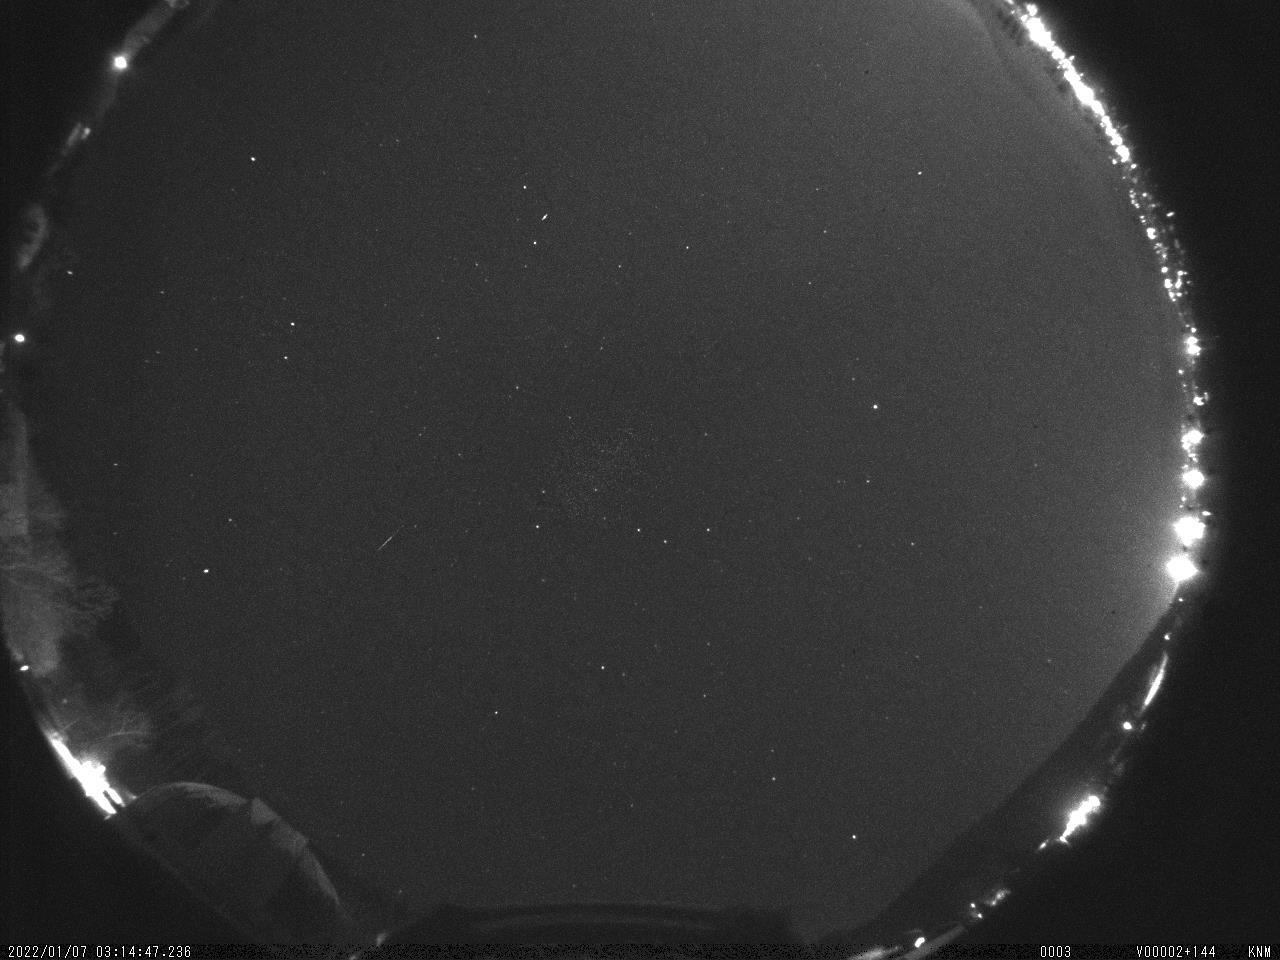Meteor: (367, 518, 407, 561)
